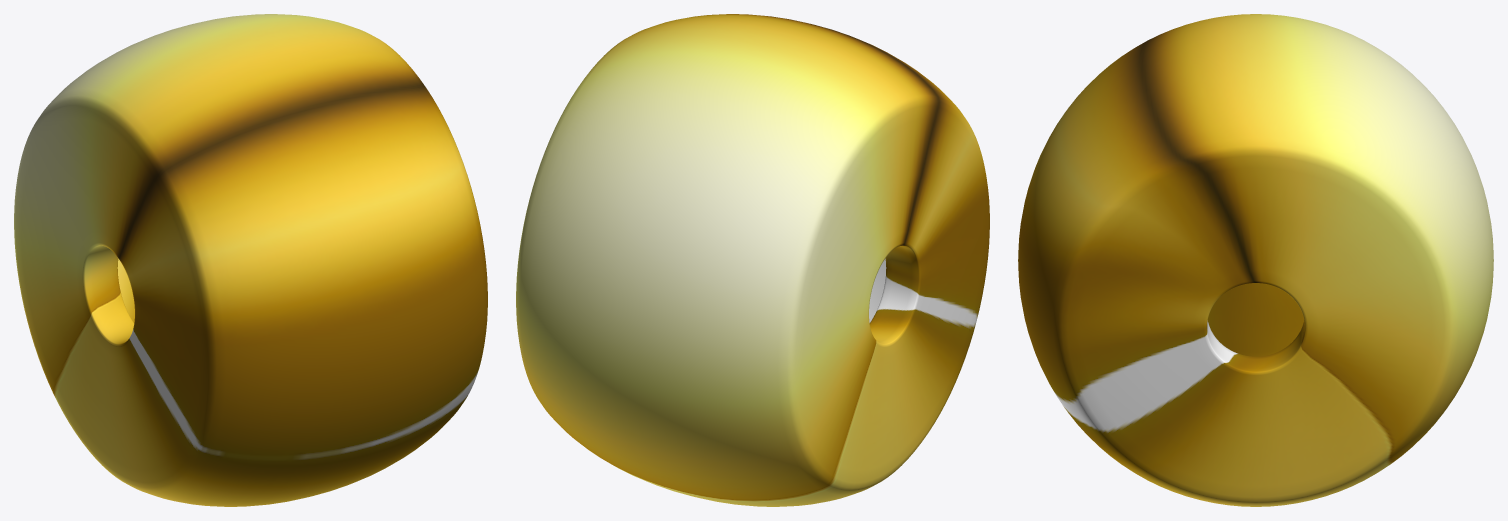
The picture shows the model from 3 angles, left to right: view 1: azimuth 30°, elevation 25°; view 2: azimuth 150°, elevation 25°; view 3: azimuth 270°, elevation 25°; orthographic projection. The views are drawn at different scales.
Parts seen in each view (by area): view 1: 图层01; view 2: 图层01; view 3: 图层01.
Part boxes in pixels (x1,y1,x2,y2): 图层01: [14, 14, 487, 506]; 图层01: [516, 14, 989, 506]; 图层01: [1018, 14, 1493, 506].
Size of the model in its own units: 0.0041 by 0.0061 by 0.0061.
1 material, 1 textured.
